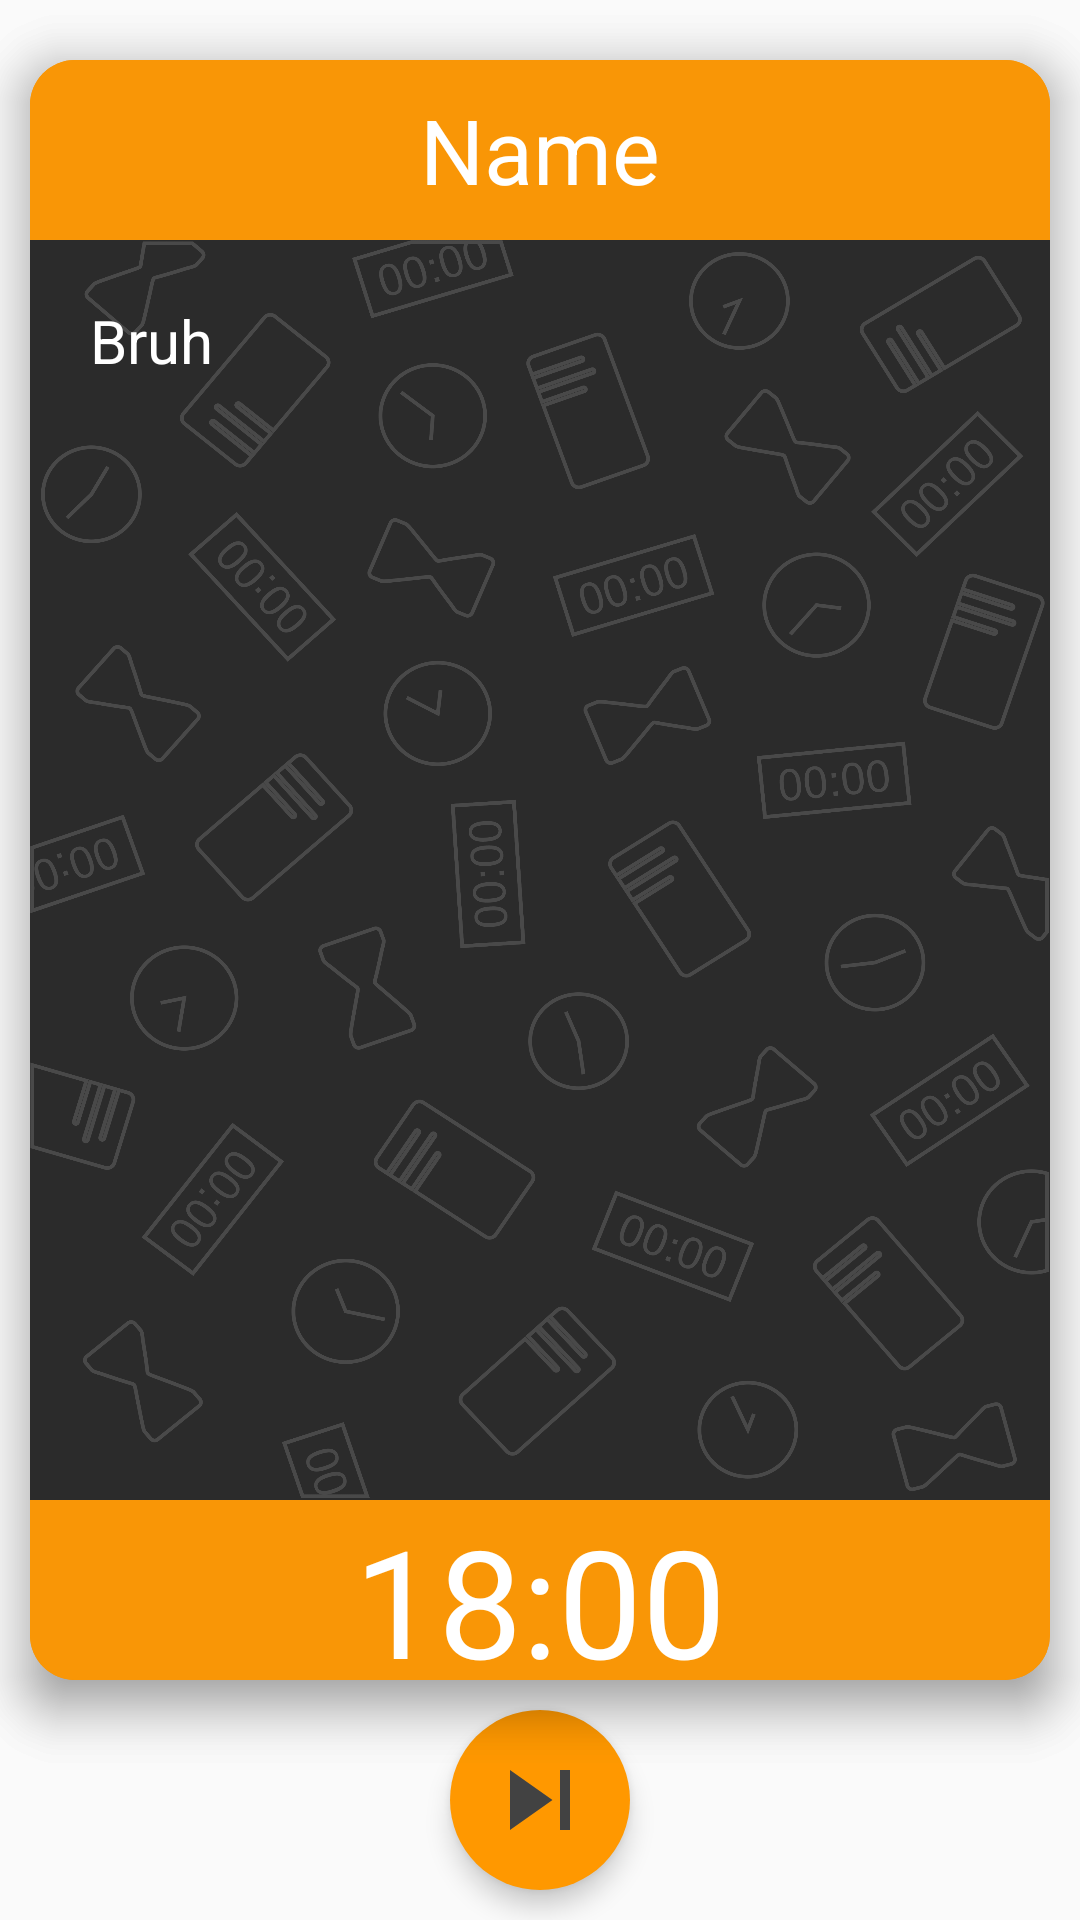

Where to tap for icons on this 1080w x 1920h app screen, as (x=x, y=y):
skip next: (x=540, y=1800)
